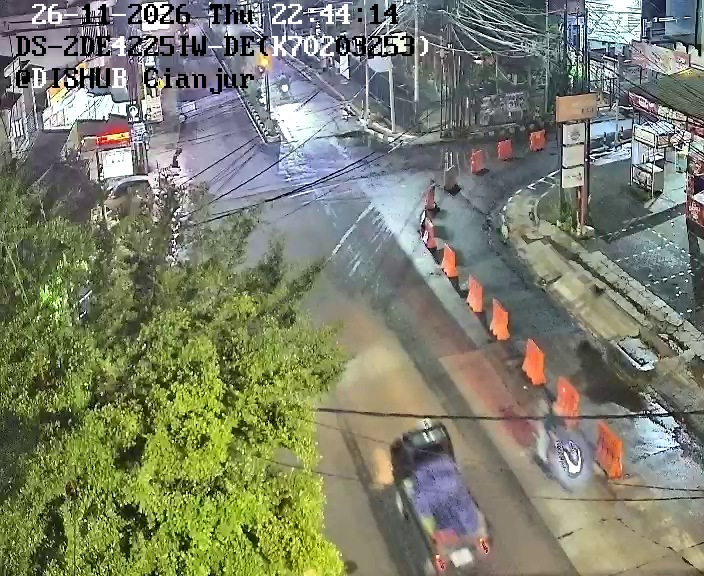Gerobak: (629, 120, 671, 199)
